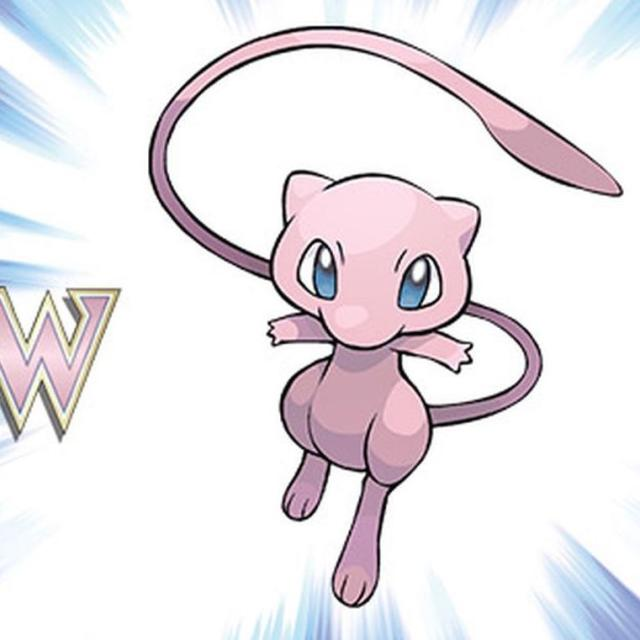Mew: (258, 169, 480, 542)
